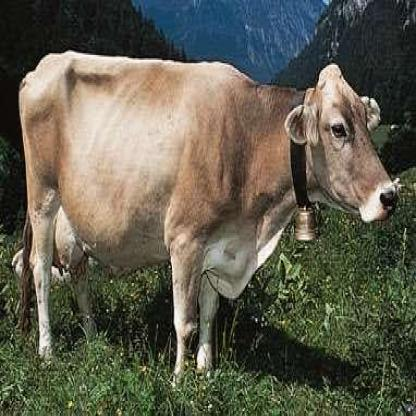cow: (17, 49, 397, 384)
